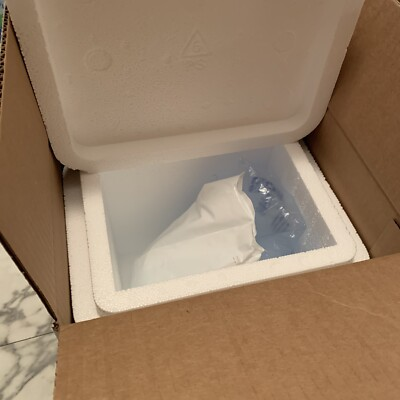Parcel: (64, 143, 368, 312)
